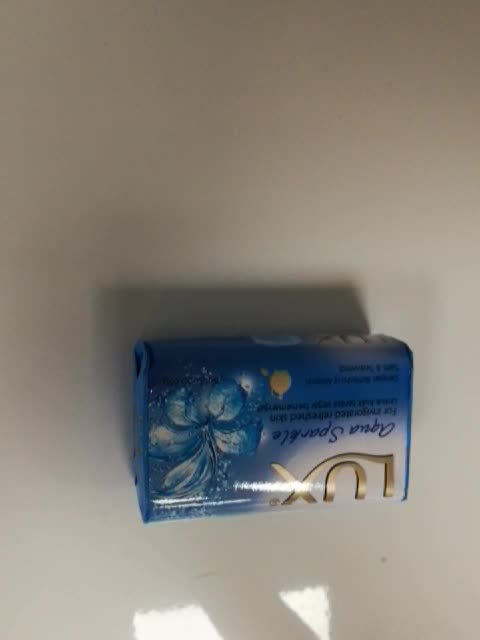soap: (128, 333, 417, 526)
